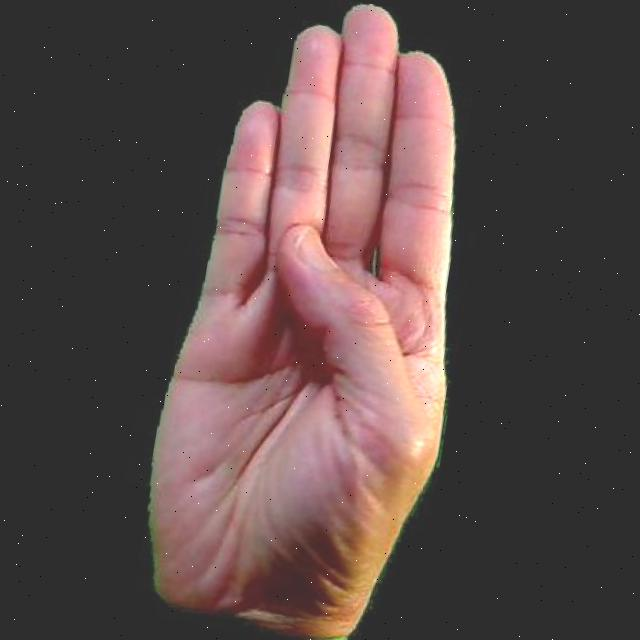b: (103, 0, 508, 640)
